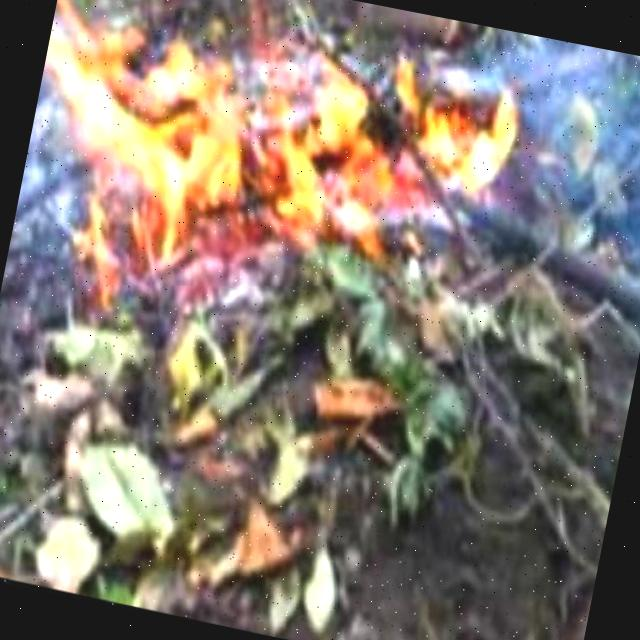fire: (6, 0, 346, 310), (214, 19, 562, 300)
